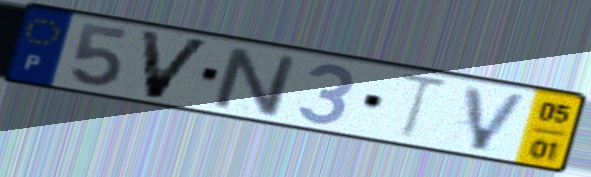3: (295, 61, 360, 127)
5: (68, 20, 135, 89)
N: (210, 43, 299, 121)
T: (394, 69, 455, 145)
V: (136, 26, 216, 102), (461, 83, 534, 155)
